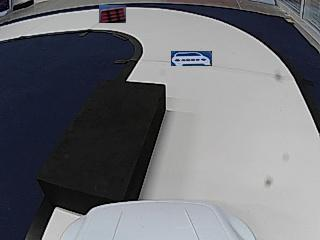block: (41, 79, 164, 204)
